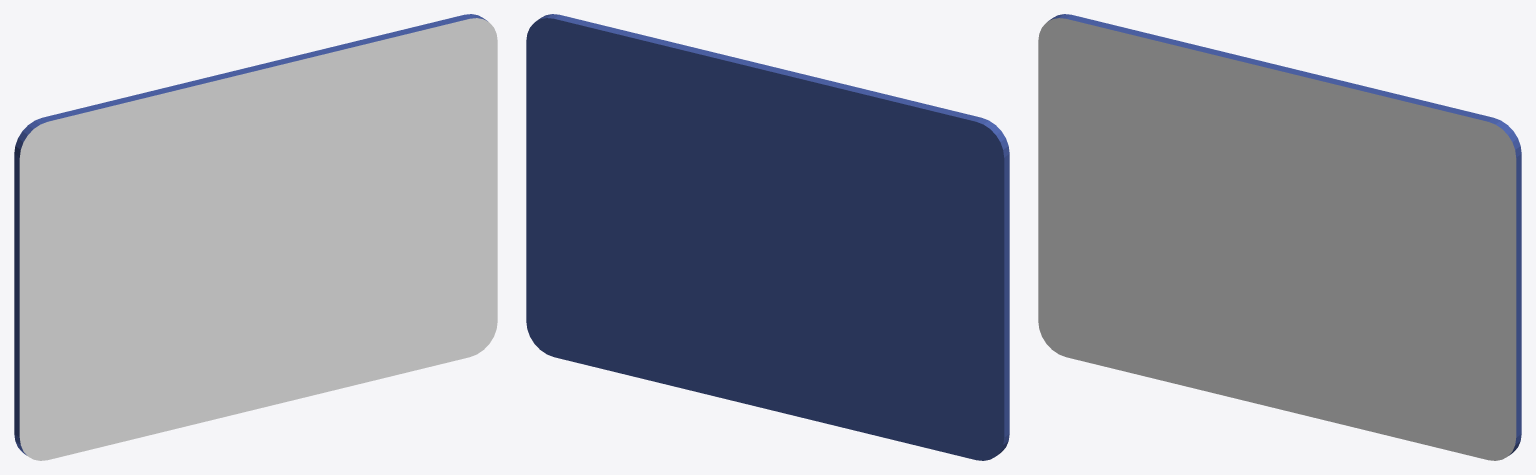
Rendered from placa_calle.glb.
The picture shows the model from 3 angles, left to right: view 1: azimuth 30°, elevation 25°; view 2: azimuth 150°, elevation 25°; view 3: azimuth 330°, elevation 25°; orthographic projection.
Parts seen in each view (by area): view 1: Placa; view 2: Placa; view 3: Placa.
Part boxes in pixels (<box>): Placa: <box>14,14,497,460</box>; Placa: <box>526,14,1009,460</box>; Placa: <box>1038,14,1521,460</box>.
Bounding box in the file's own units: 0.6 × 0.406 × 0.012.
